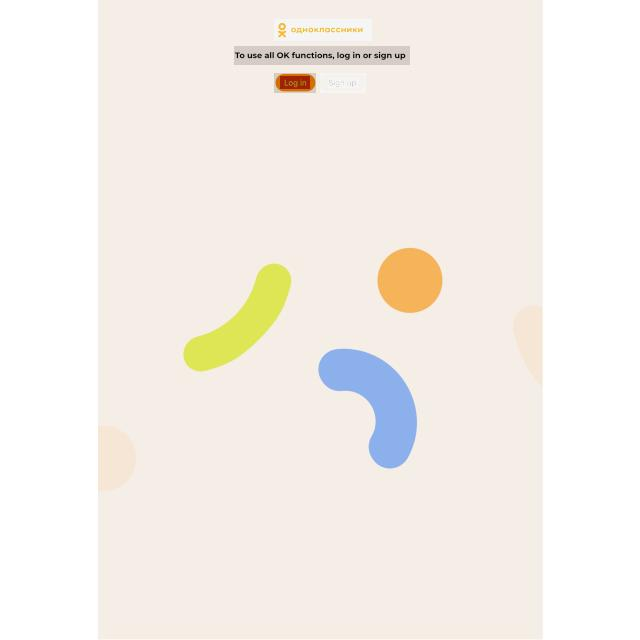CheckBox: (320, 73, 366, 93), (274, 73, 316, 93)
Input field: (233, 46, 410, 65)
card: (98, 0, 543, 639)
data feed: (280, 76, 310, 89), (328, 78, 359, 88)
date picker: (274, 19, 372, 41)
